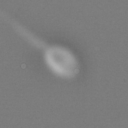normal: (1, 10, 45, 47)
